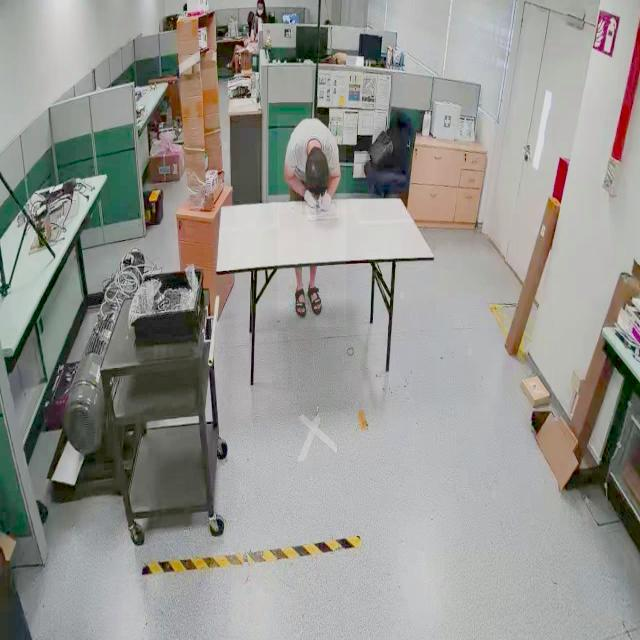hand_glove: (316, 187, 337, 220), (302, 189, 318, 215)
head_nohelmet: (306, 158, 329, 196)
person: (277, 115, 346, 328)
